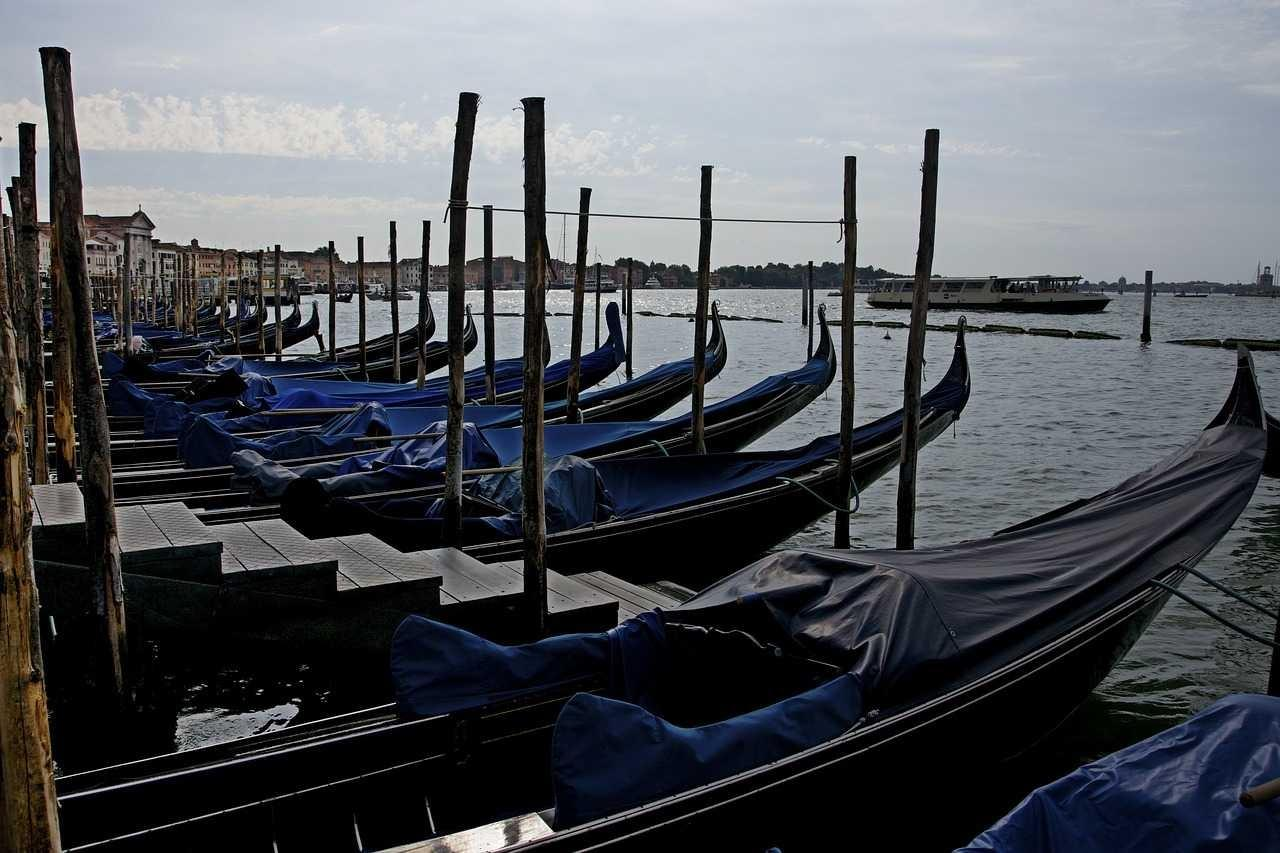kayak: (72, 375, 1274, 837), (244, 310, 836, 495), (233, 305, 625, 443), (955, 685, 1280, 845), (144, 322, 438, 436), (233, 305, 441, 375), (866, 274, 1112, 312), (218, 301, 324, 353)
